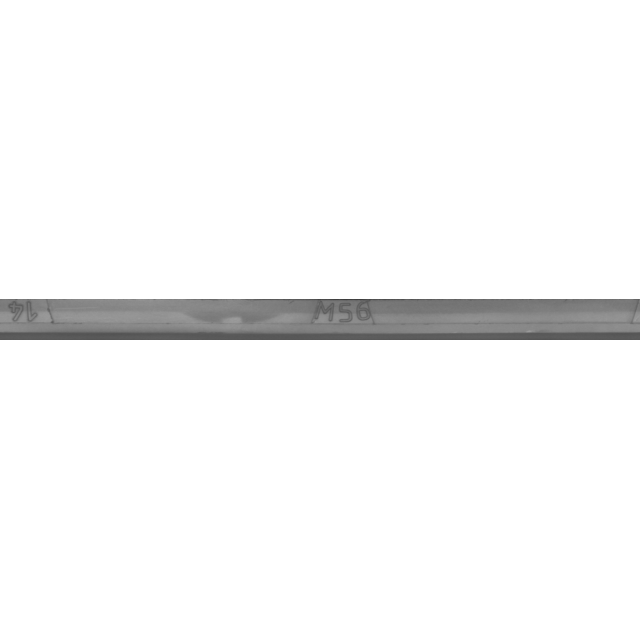mohao: (253, 270, 453, 370)
xuehao: (0, 270, 117, 370)
